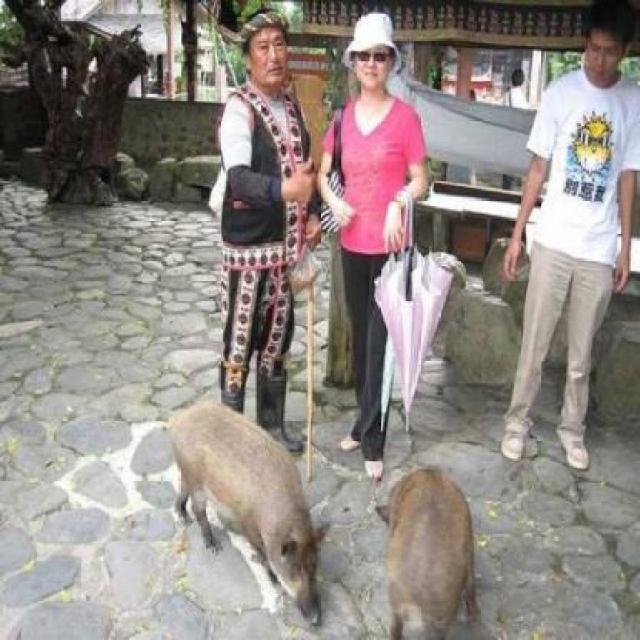Boar: (168, 397, 342, 631), (358, 438, 494, 638)
